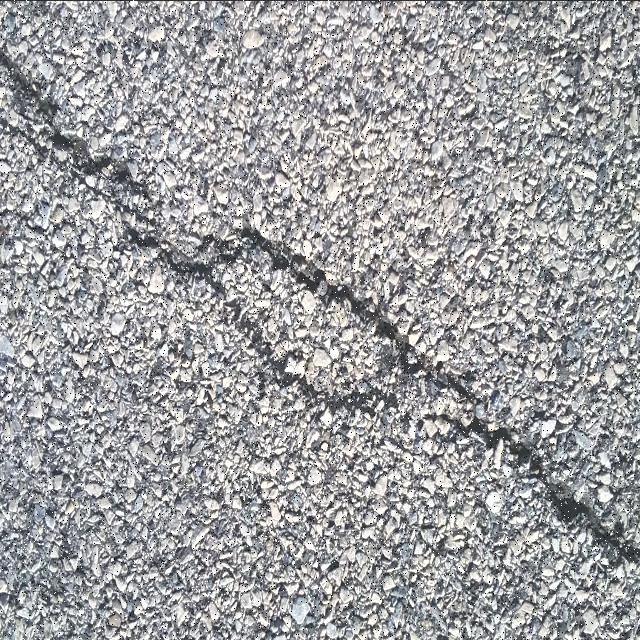Crack: (0, 46, 640, 578), (0, 115, 46, 152)
